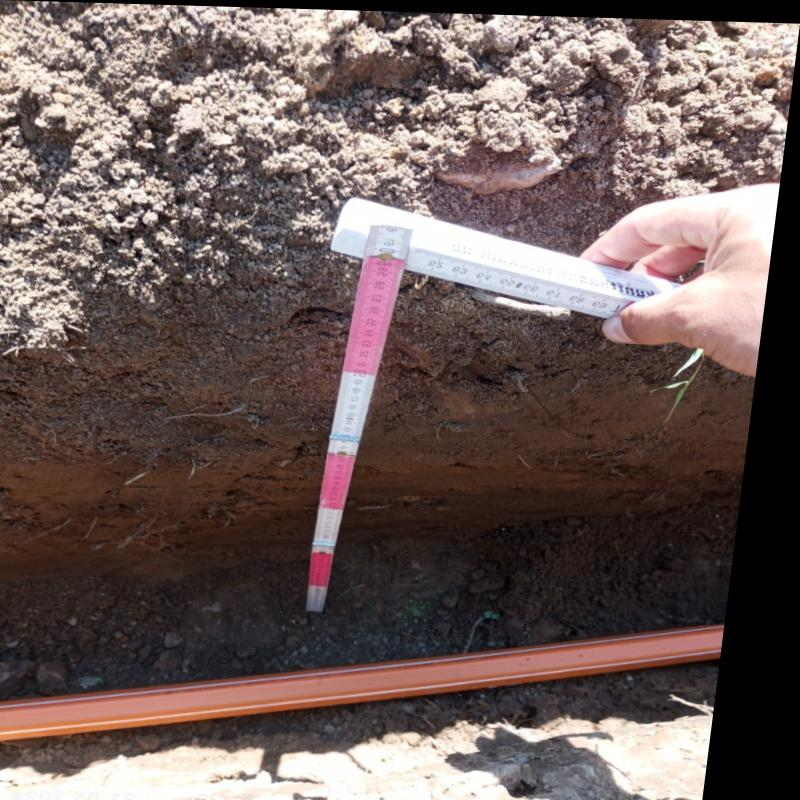Orang-Speednetrohrchen: (0, 622, 740, 744)
